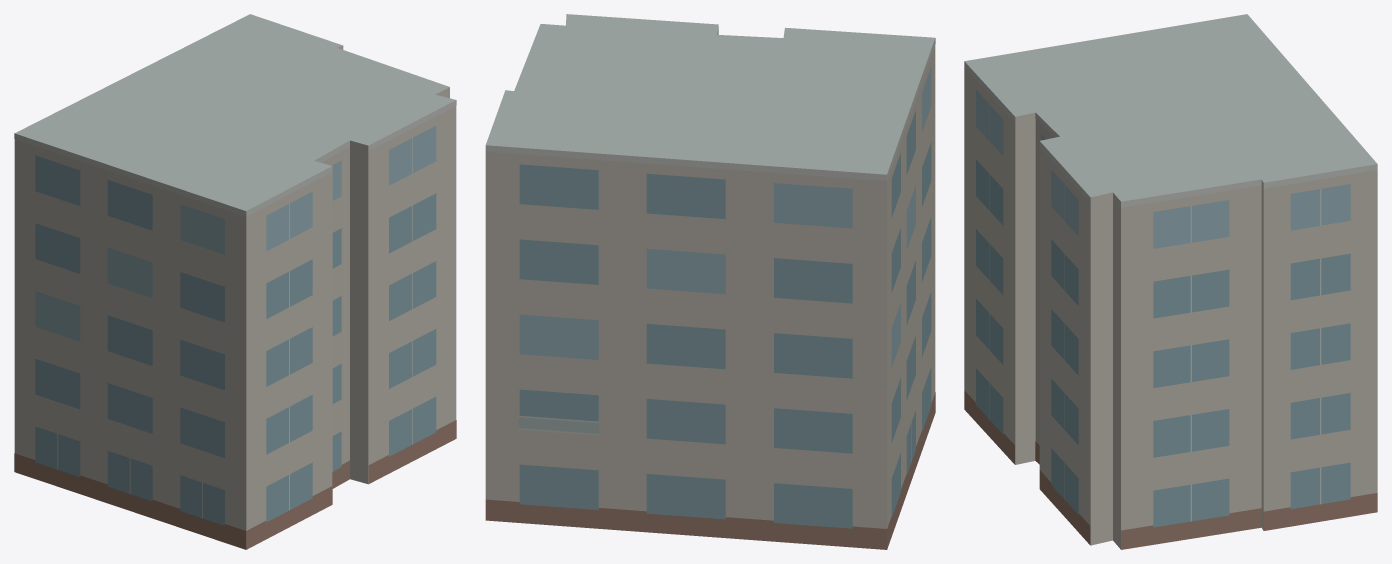
The model's file is survey-upis-32612201.glb.
3 renders of one model, left to right at view 1: azimuth 30°, elevation 25°; view 2: azimuth 150°, elevation 25°; view 3: azimuth 270°, elevation 25°, orthographic. The views are drawn at different scales.
Parts seen in each view (by area): view 1: survey-upis-32612201.tmp; view 2: survey-upis-32612201.tmp; view 3: survey-upis-32612201.tmp.
Part boxes in pixels (<box>): survey-upis-32612201.tmp: <box>14,14,456,549</box>; survey-upis-32612201.tmp: <box>485,14,935,549</box>; survey-upis-32612201.tmp: <box>964,14,1377,549</box>.
Size of the model in its own units: 16.54 by 14.3 by 15.39.
